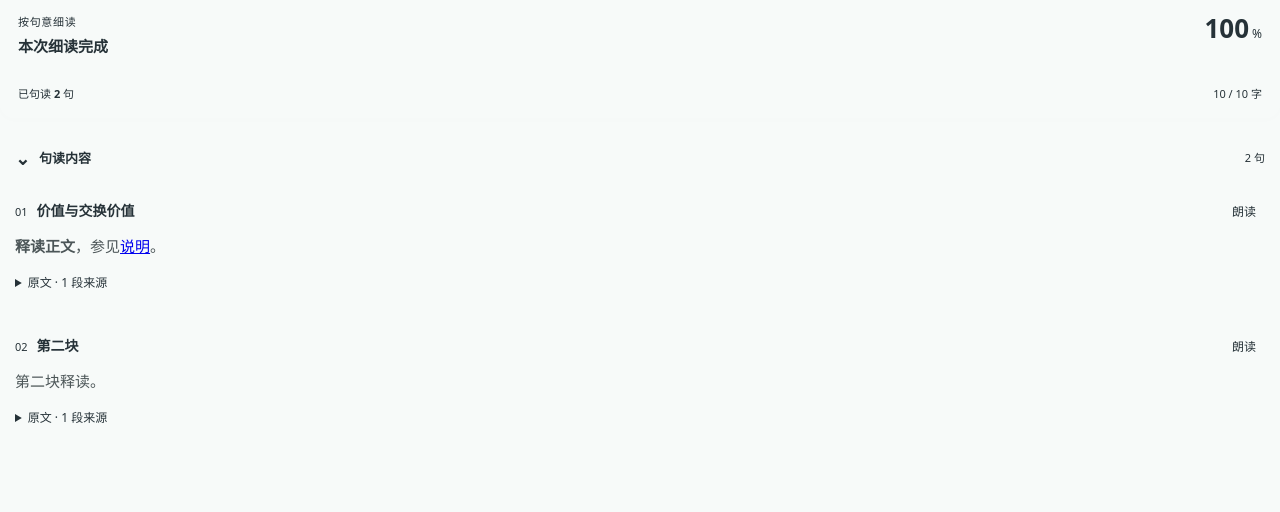
Test: 多个句读块朗读各自正文，切换块中止上一块请求
The image size is (1280, 512).
Step 1. Click the button "朗读" in the row of "价值与交换价值" → click(1244, 212), box [1223,200,1265,224]
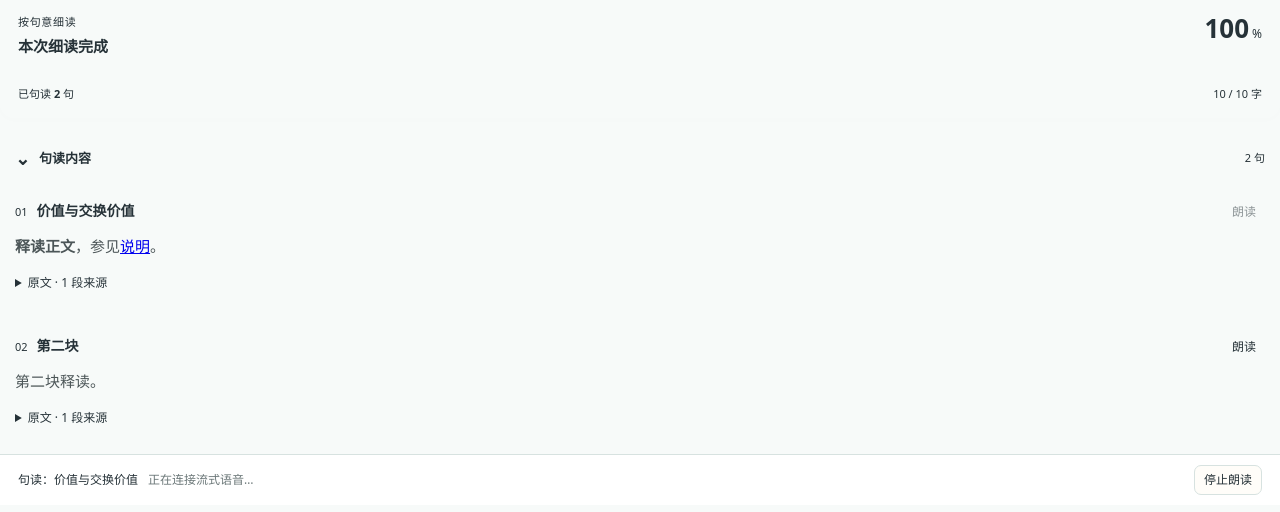
Step 2. Click the button "朗读" in the row of "02" → click(1244, 347), box [1223,335,1265,359]
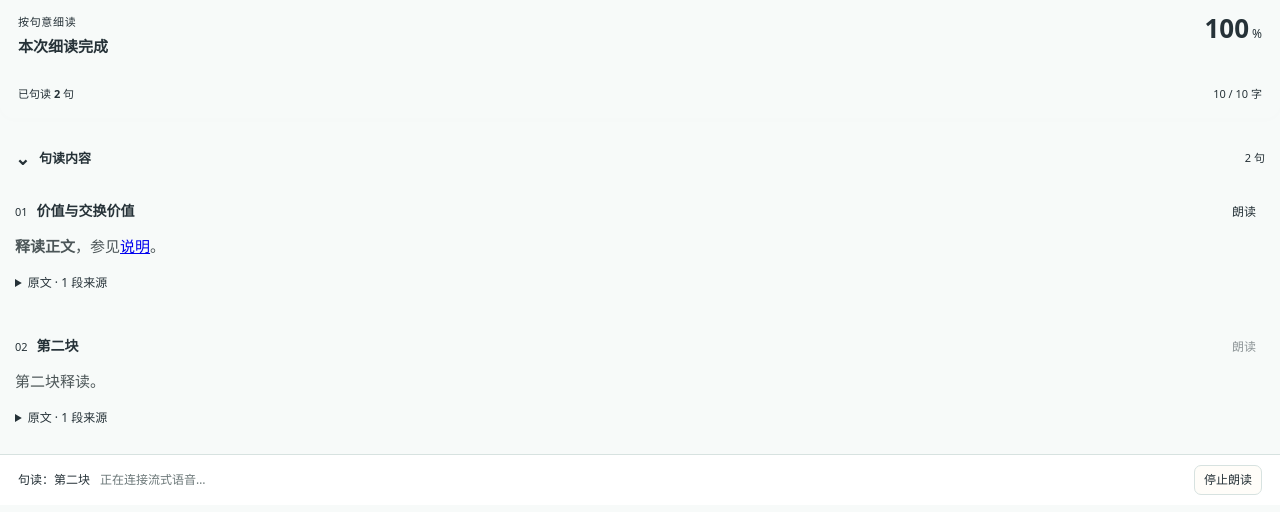
Expected: the text "句读：第二块" is shown, [18,471,90,489]
